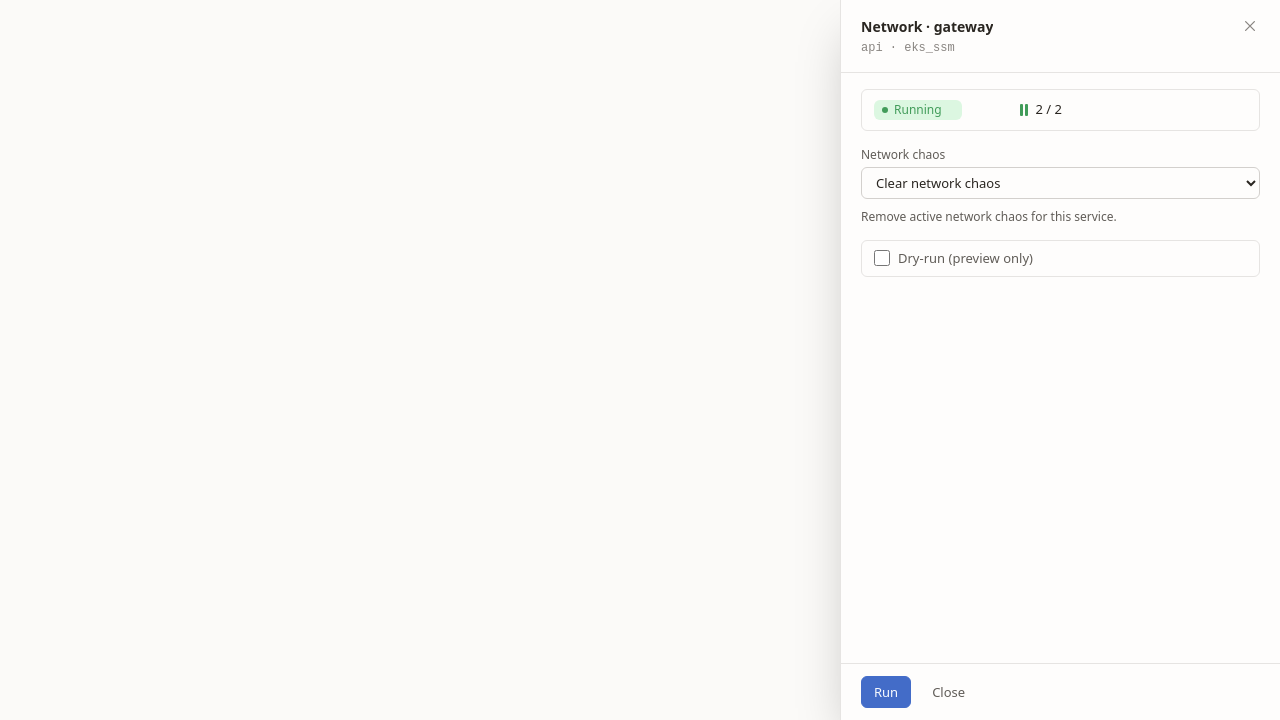
Scenario: <ChaosDrawer mode=network/> (eks_ssm) › partition shows direction + duration but NOT a loss% field (it forces 100%)
Select "Partition" in the dropdown labelled "Network chaos" at (1060, 183), box [861,167,1260,199]
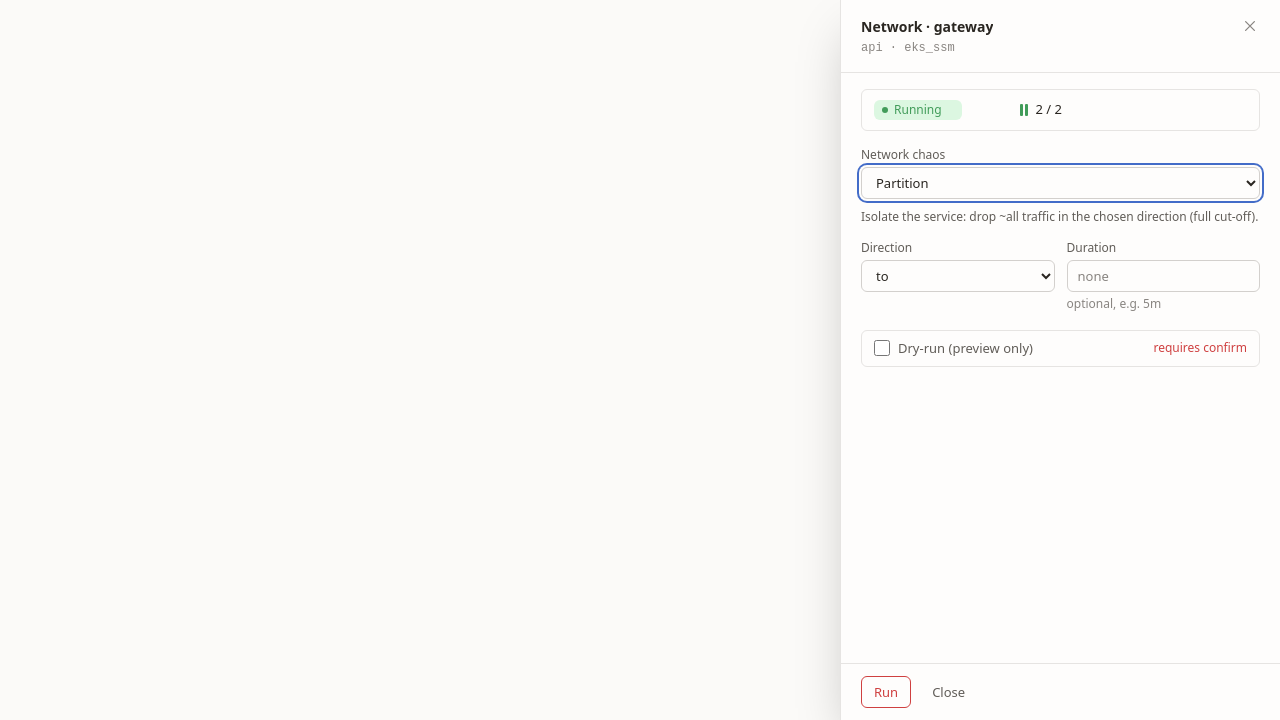
expect the dropdown labelled "Direction" is shown: met, box [861,260,1054,292]
expect the field labelled "Duration" is shown: met, box [1066,260,1260,292]
expect the text "Isolate the service" is shown: met, box [861,208,1258,225]
